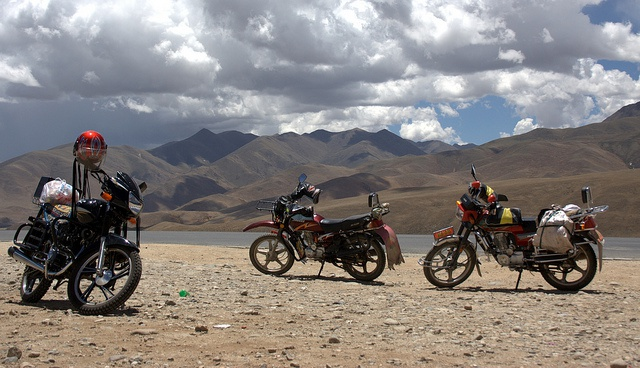non-vehicle: (419, 165, 608, 292), (13, 159, 147, 316), (244, 173, 404, 281)
